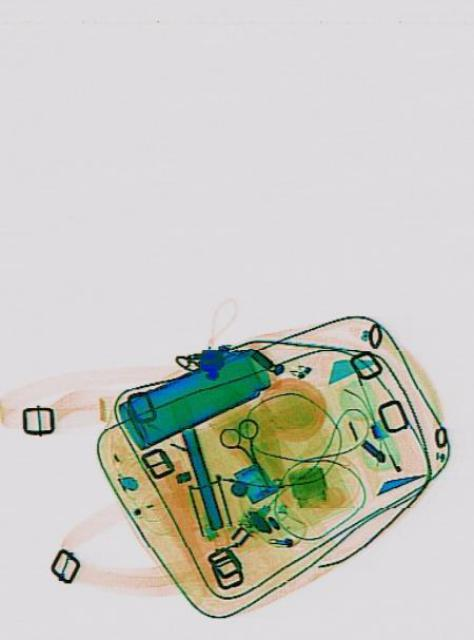Scissors: (213, 404, 279, 494)
